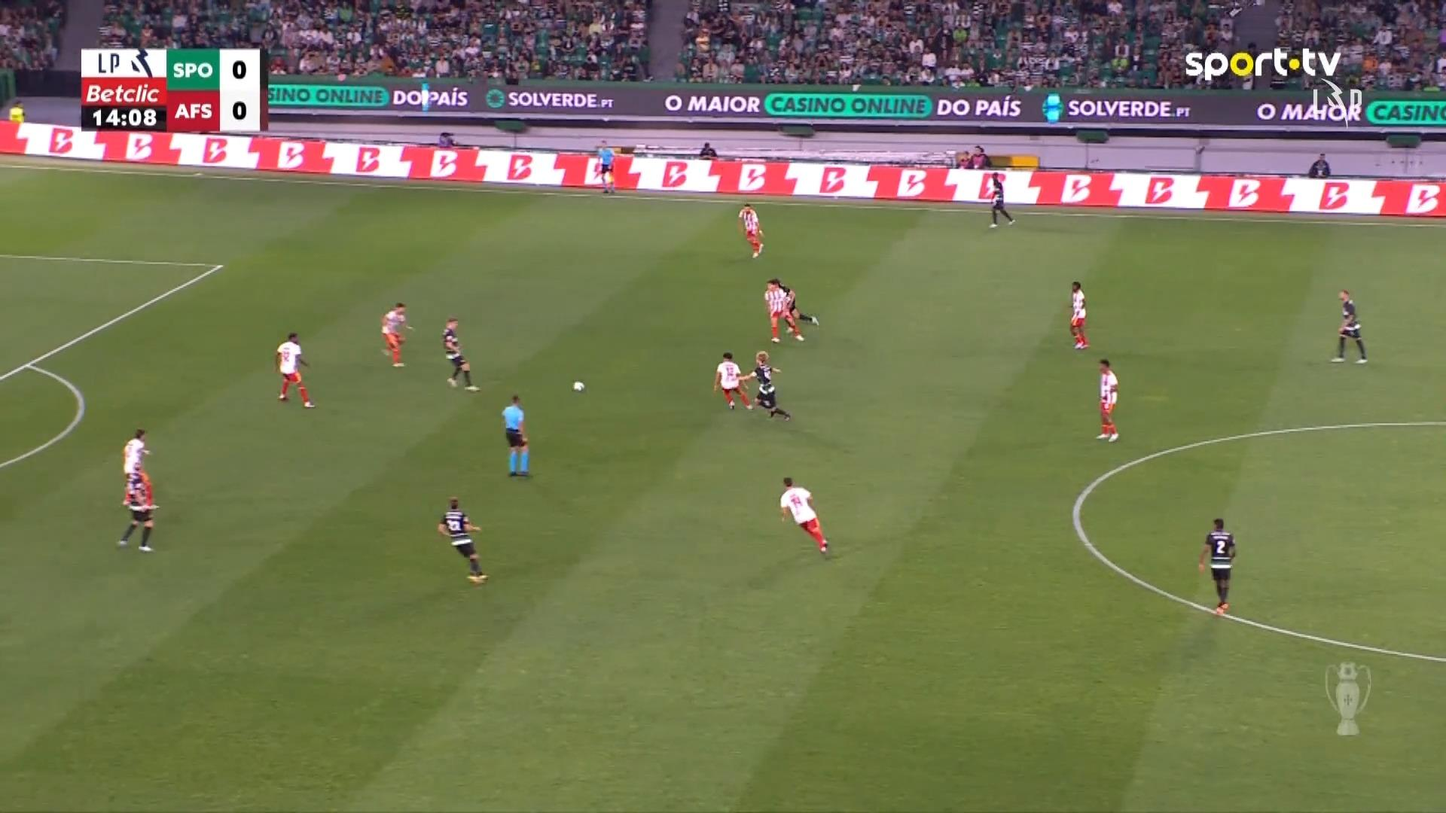ball: (572, 381, 584, 392)
player: (437, 495, 488, 583), (779, 476, 829, 556), (1197, 517, 1236, 616), (740, 350, 791, 422), (763, 278, 818, 343), (116, 469, 158, 551), (275, 331, 316, 408), (441, 315, 480, 391), (1329, 288, 1368, 363), (713, 351, 752, 411), (121, 428, 151, 503), (380, 302, 413, 367), (1095, 358, 1119, 441), (987, 171, 1015, 227), (737, 202, 764, 258), (1069, 280, 1090, 349)
referee: (502, 394, 531, 477), (594, 139, 616, 194)
